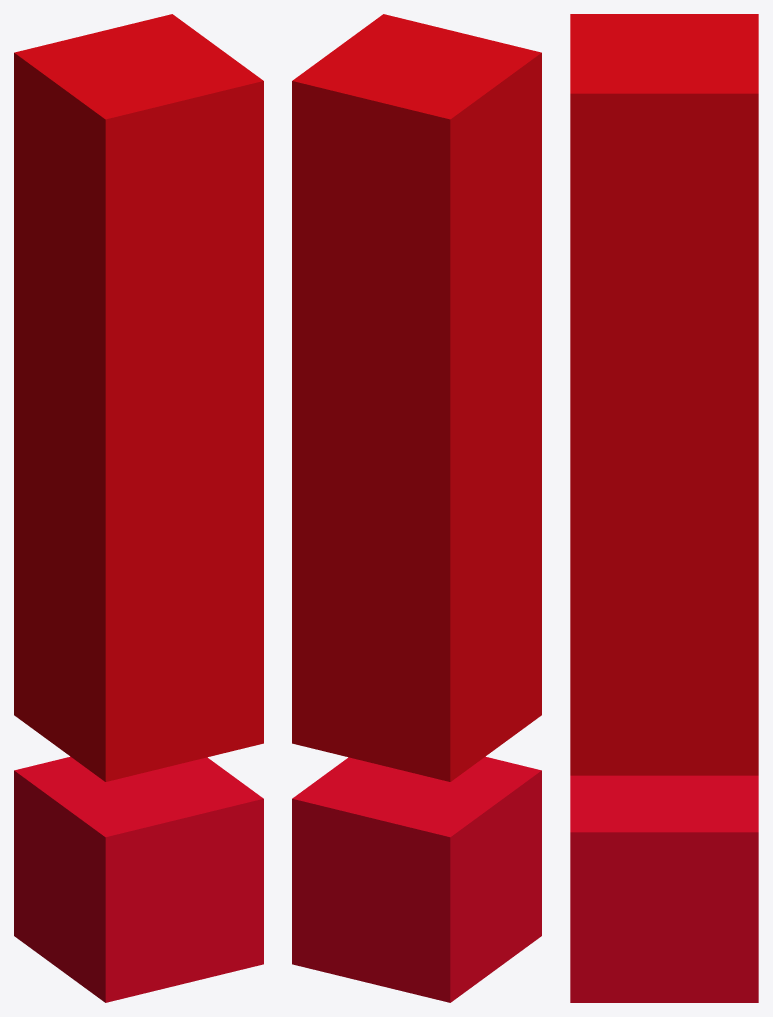
Rendered from exclaimation.fbx.
3 renders of one model, left to right at view 1: azimuth 30°, elevation 25°; view 2: azimuth 150°, elevation 25°; view 3: azimuth 270°, elevation 25°, orthographic. The views are drawn at different scales.
Visible parts, largest first — view 1: Cube, Cube.001; view 2: Cube, Cube.001; view 3: Cube, Cube.001.
Part boxes in pixels (x1=…): Cube: x1=14, y1=14, x2=263, y2=781; Cube.001: x1=14, y1=756, x2=263, y2=1002; Cube: x1=292, y1=14, x2=541, y2=781; Cube.001: x1=292, y1=756, x2=541, y2=1002; Cube: x1=570, y1=14, x2=758, y2=775; Cube.001: x1=570, y1=775, x2=758, y2=1002.
Bounding box in the file's own units: 50 × 267 × 50.
